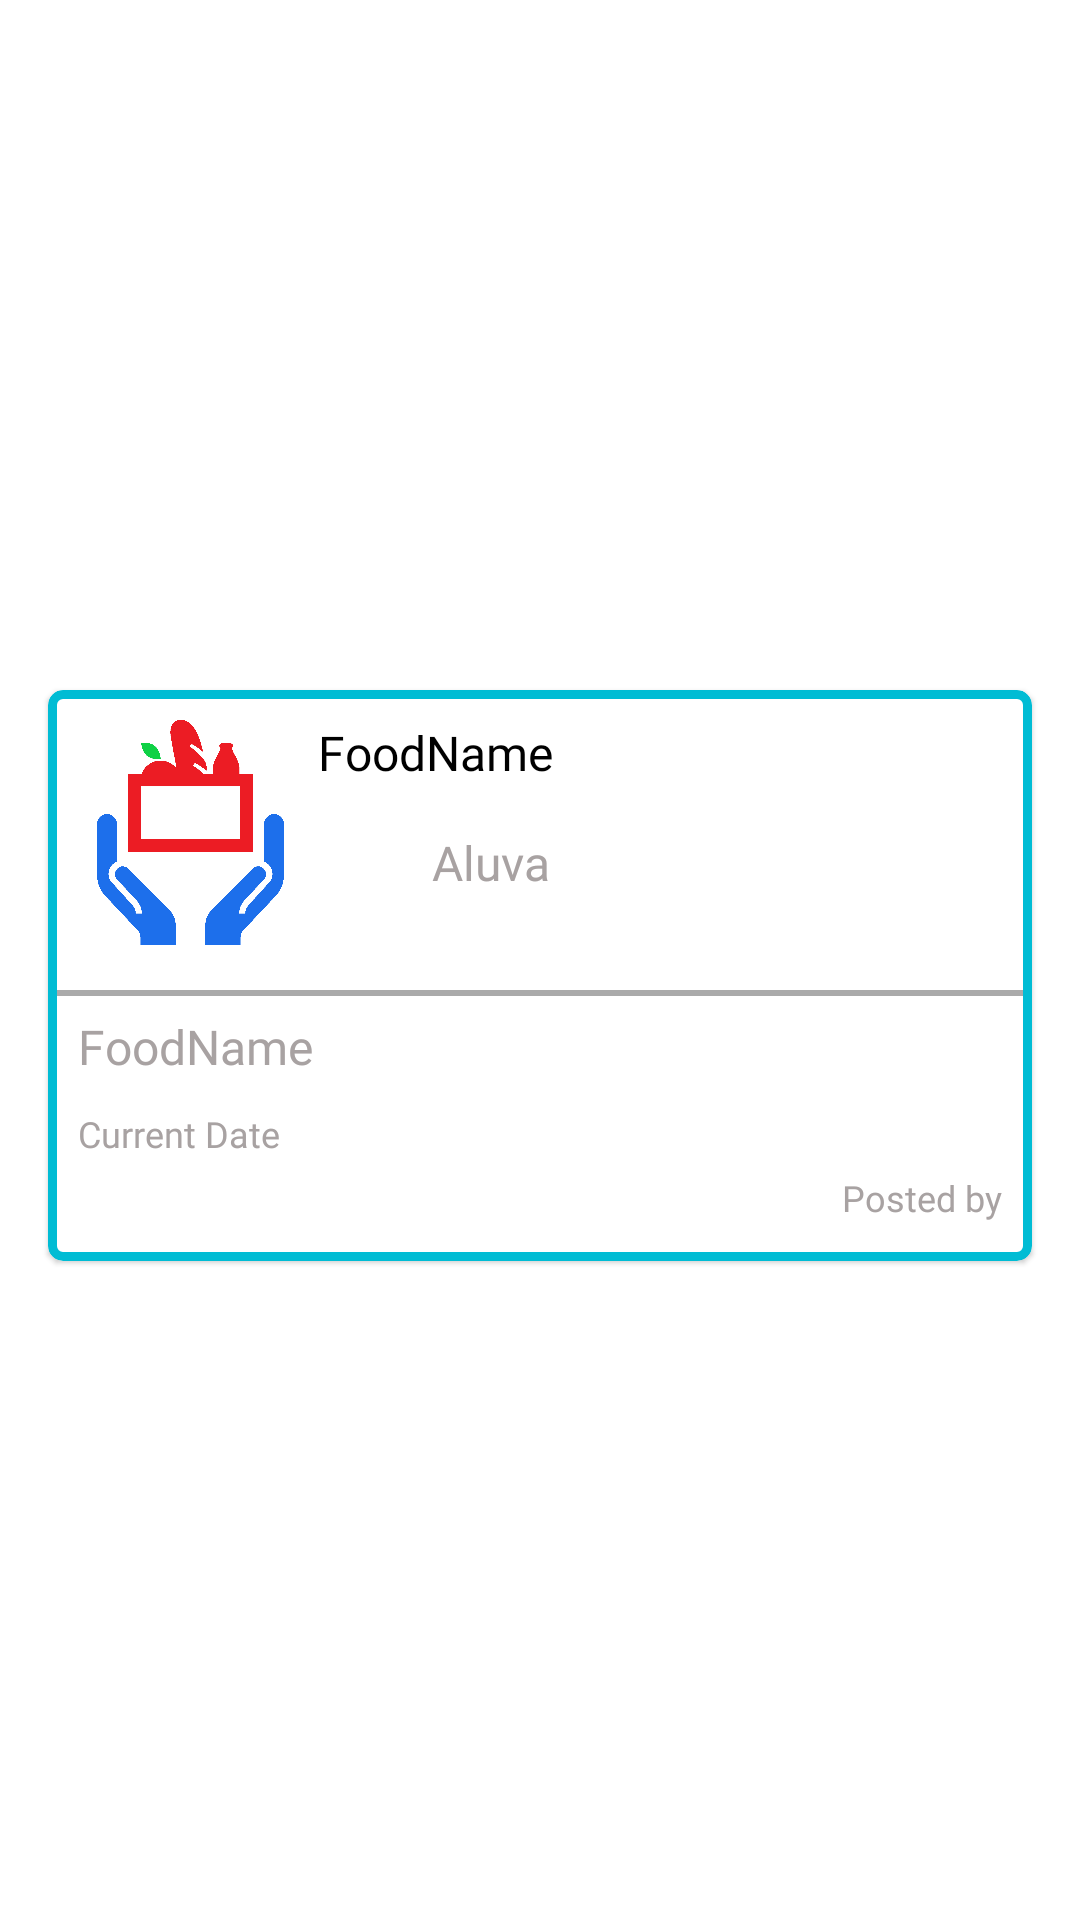

Point at icon controls on the screen. Image size 1080x1920, points as [x,y].
donate: [190,832]
